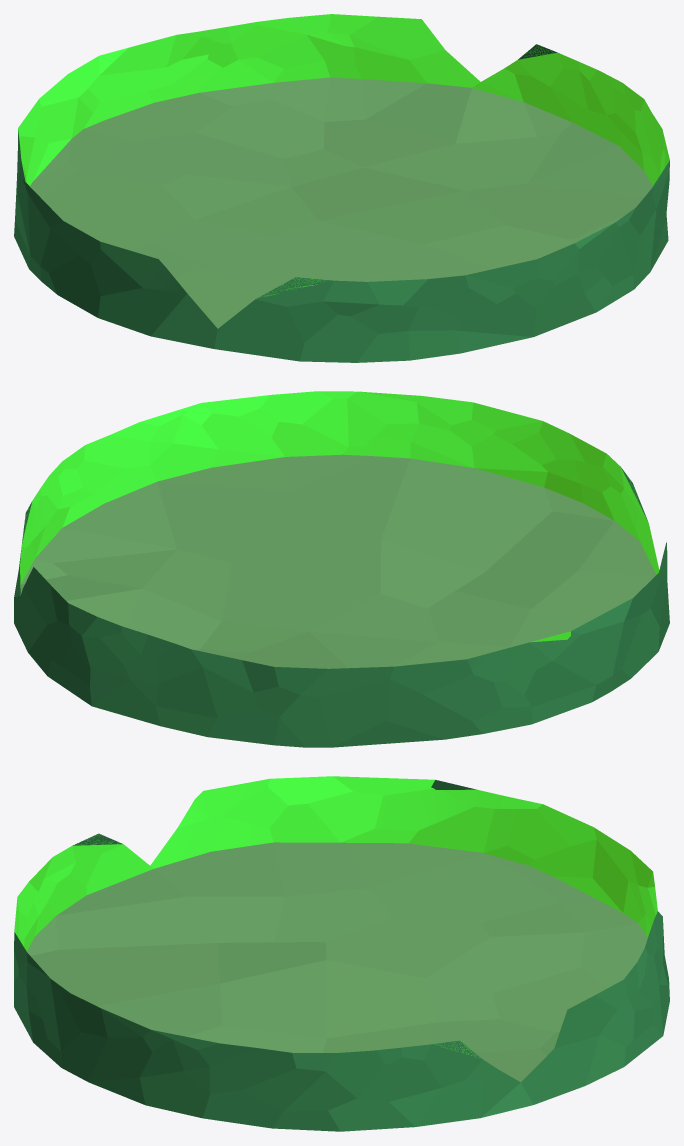
Rendered from plant_lily_pad_medium_F.fbx.
The picture shows the model from 3 angles, top to bottom: view 1: azimuth 30°, elevation 25°; view 2: azimuth 150°, elevation 25°; view 3: azimuth 270°, elevation 25°; orthographic projection.
Visible parts, largest first — view 1: plant_lily_pad_medium_F; view 2: plant_lily_pad_medium_F; view 3: plant_lily_pad_medium_F.
Boxes of the visible parts, x1,y1,x2,y2 form: plant_lily_pad_medium_F: [14, 14, 669, 362]; plant_lily_pad_medium_F: [14, 391, 669, 747]; plant_lily_pad_medium_F: [14, 776, 669, 1131].
Size of the model in its own units: 82.23 by 10.96 by 81.82.
